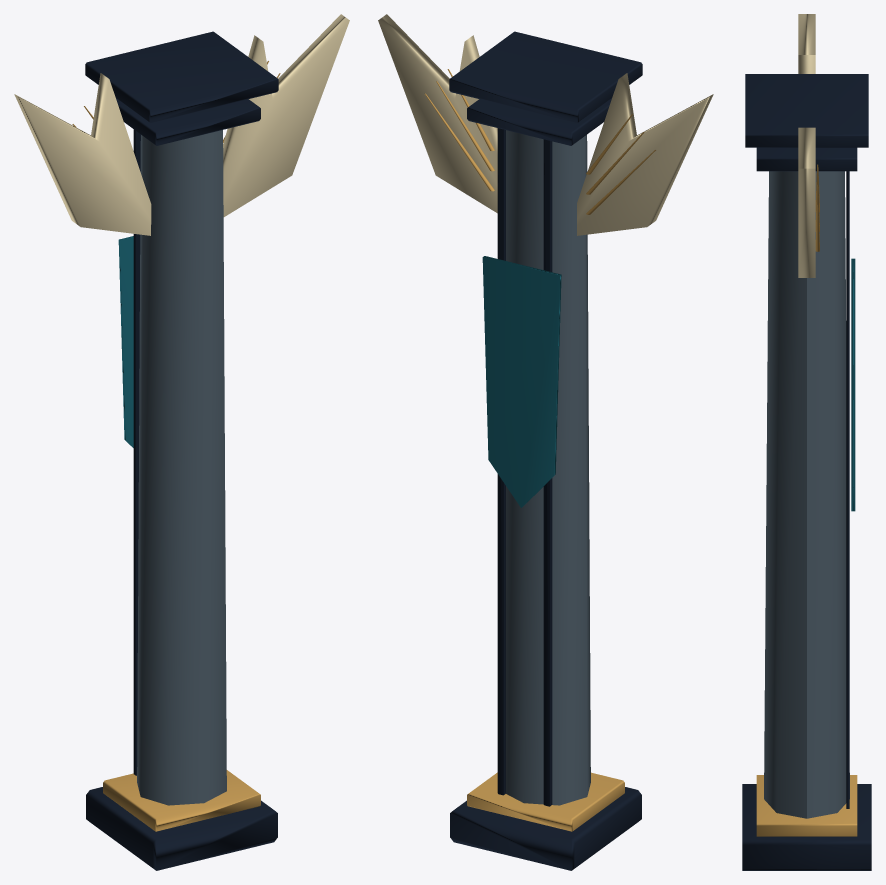
Rendered from prop_3_4.glb.
The picture shows the model from 3 angles, left to right: view 1: azimuth 30°, elevation 25°; view 2: azimuth 150°, elevation 25°; view 3: azimuth 270°, elevation 25°; orthographic projection. The views are drawn at different scales.
Parts seen in each view (by area): view 1: StoneShaft, WingedCapital (×2), Cornice (×3), Foundation, Flute, HangingBanner; view 2: StoneShaft, WingedCapital (×2), Cornice (×3), HangingBanner, Flute (×2), Foundation; view 3: StoneShaft, Cornice (×3), Foundation, WingedCapital (×2), Flute, HangingBanner.
Boxes of the visible parts, x1,y1,x2,y2 form: StoneShaft: [137, 130, 226, 805]; WingedCapital (×2): [14, 14, 349, 235]; Cornice (×3): [85, 31, 278, 831]; Foundation: [86, 787, 277, 870]; Flute: [133, 129, 140, 775]; HangingBanner: [118, 236, 133, 447]; StoneShaft: [506, 130, 590, 805]; WingedCapital (×2): [378, 14, 713, 235]; Cornice (×3): [449, 31, 642, 831]; HangingBanner: [482, 256, 561, 507]; Flute (×2): [497, 128, 552, 806]; Foundation: [450, 787, 641, 870]; StoneShaft: [764, 171, 849, 818]; Cornice (×3): [745, 74, 868, 836]; Foundation: [742, 784, 871, 870]; WingedCapital (×2): [798, 14, 815, 277]; Flute: [846, 171, 849, 808]; HangingBanner: [851, 258, 855, 511].
Bounding box in the file's own units: 3.4 × 7.7 × 1.2.
